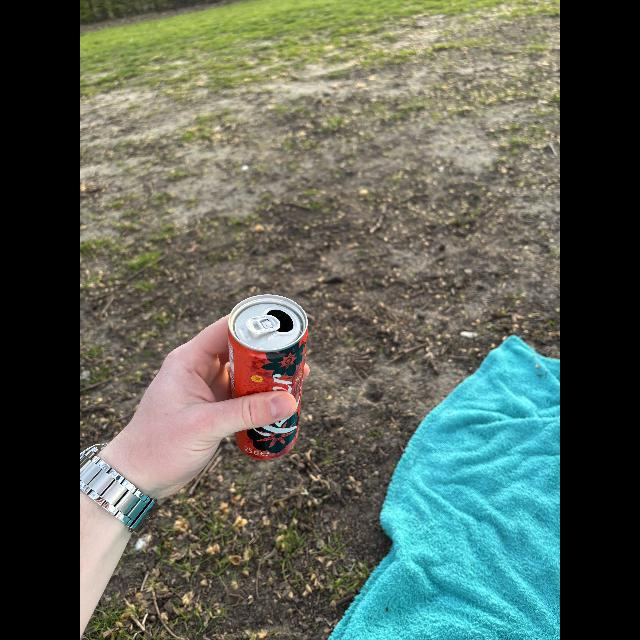Metal: (226, 293, 310, 465)
